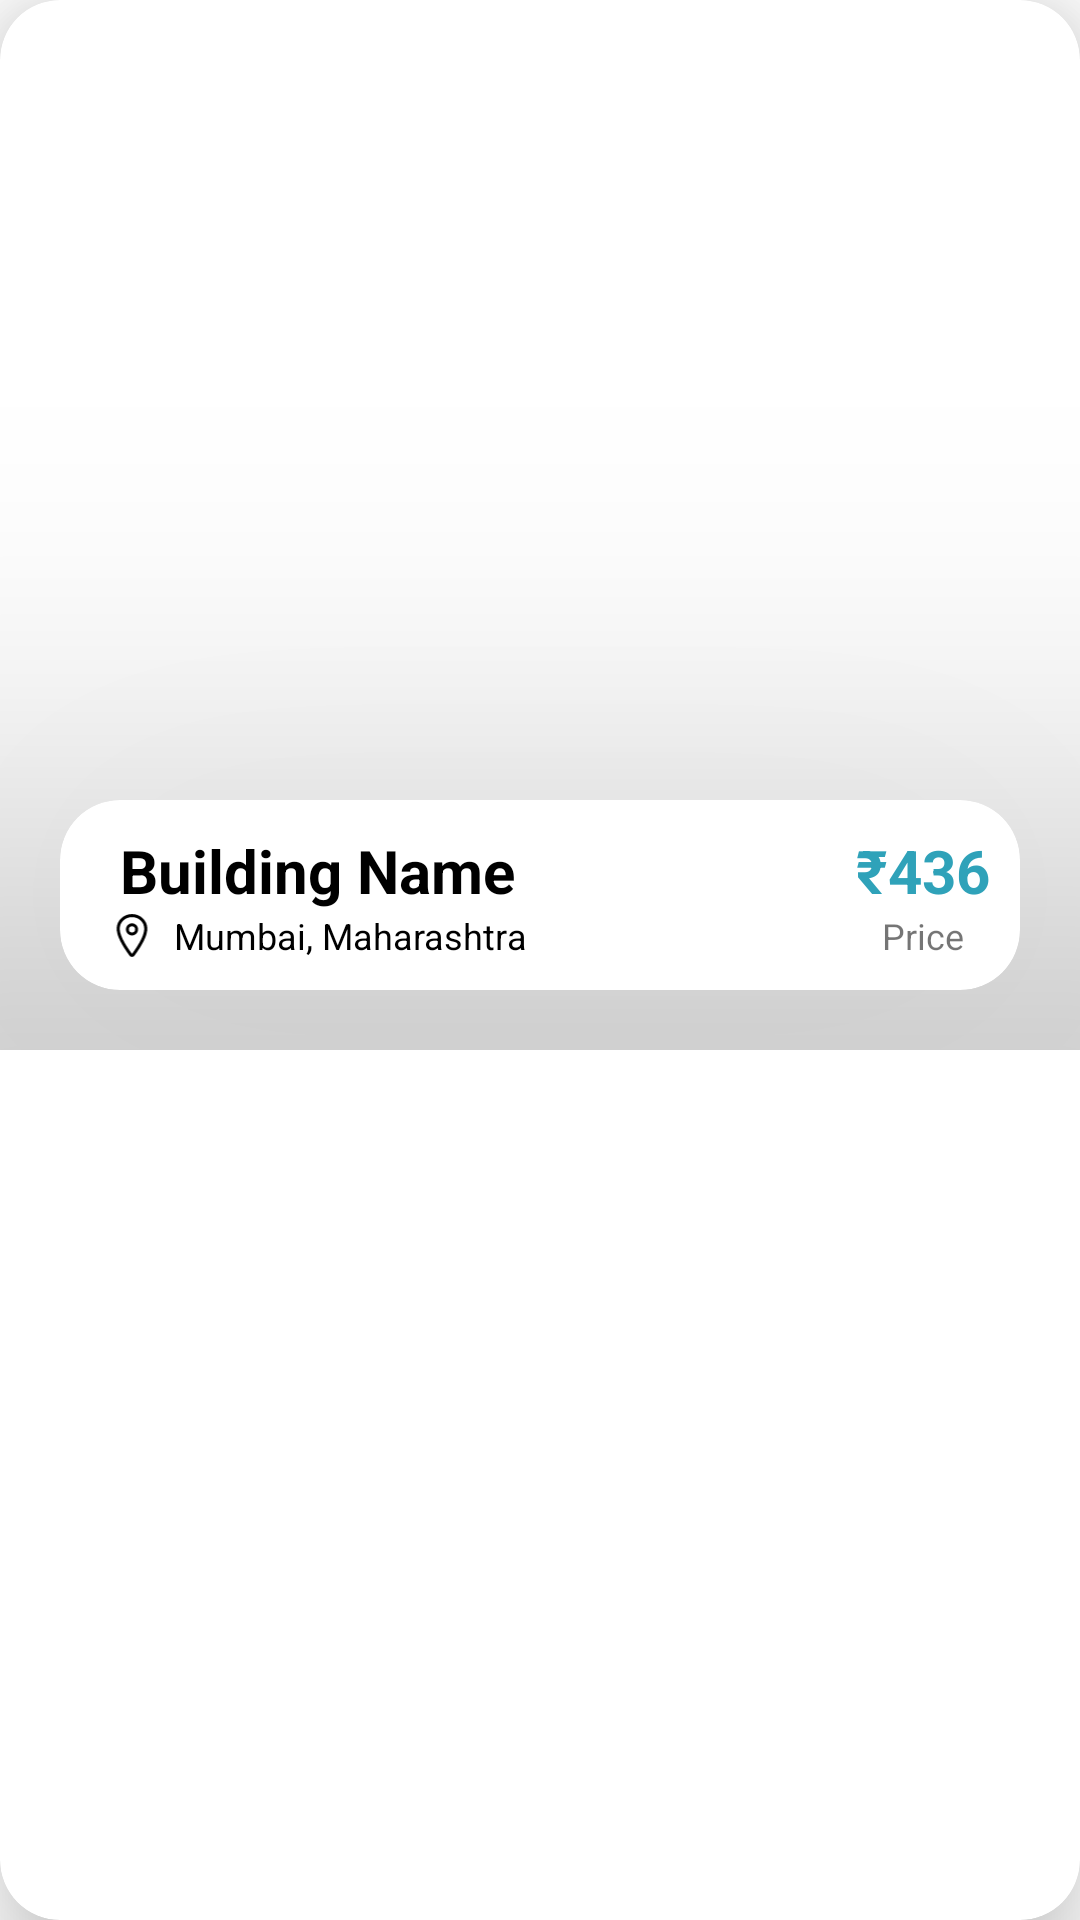

Icon bounding boxes for this 1080 x 1920 phone screenshot, format (x1,y1,x2,y2):
location: (116,914,148,957)
